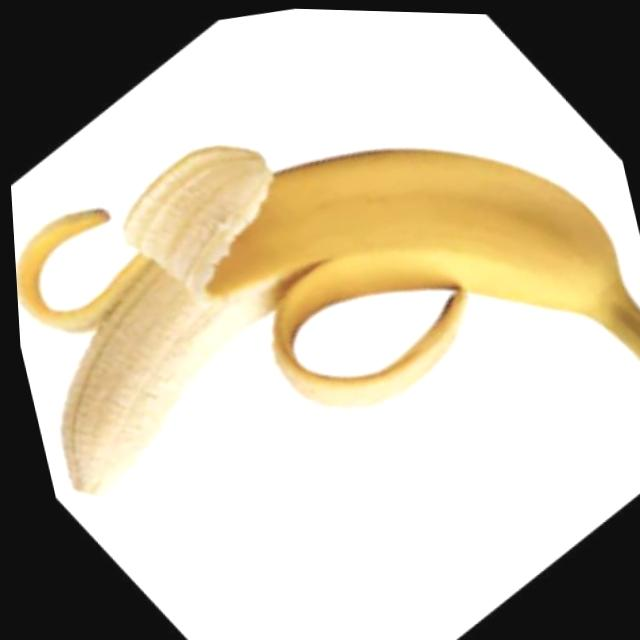Banana: (3, 70, 640, 517)
